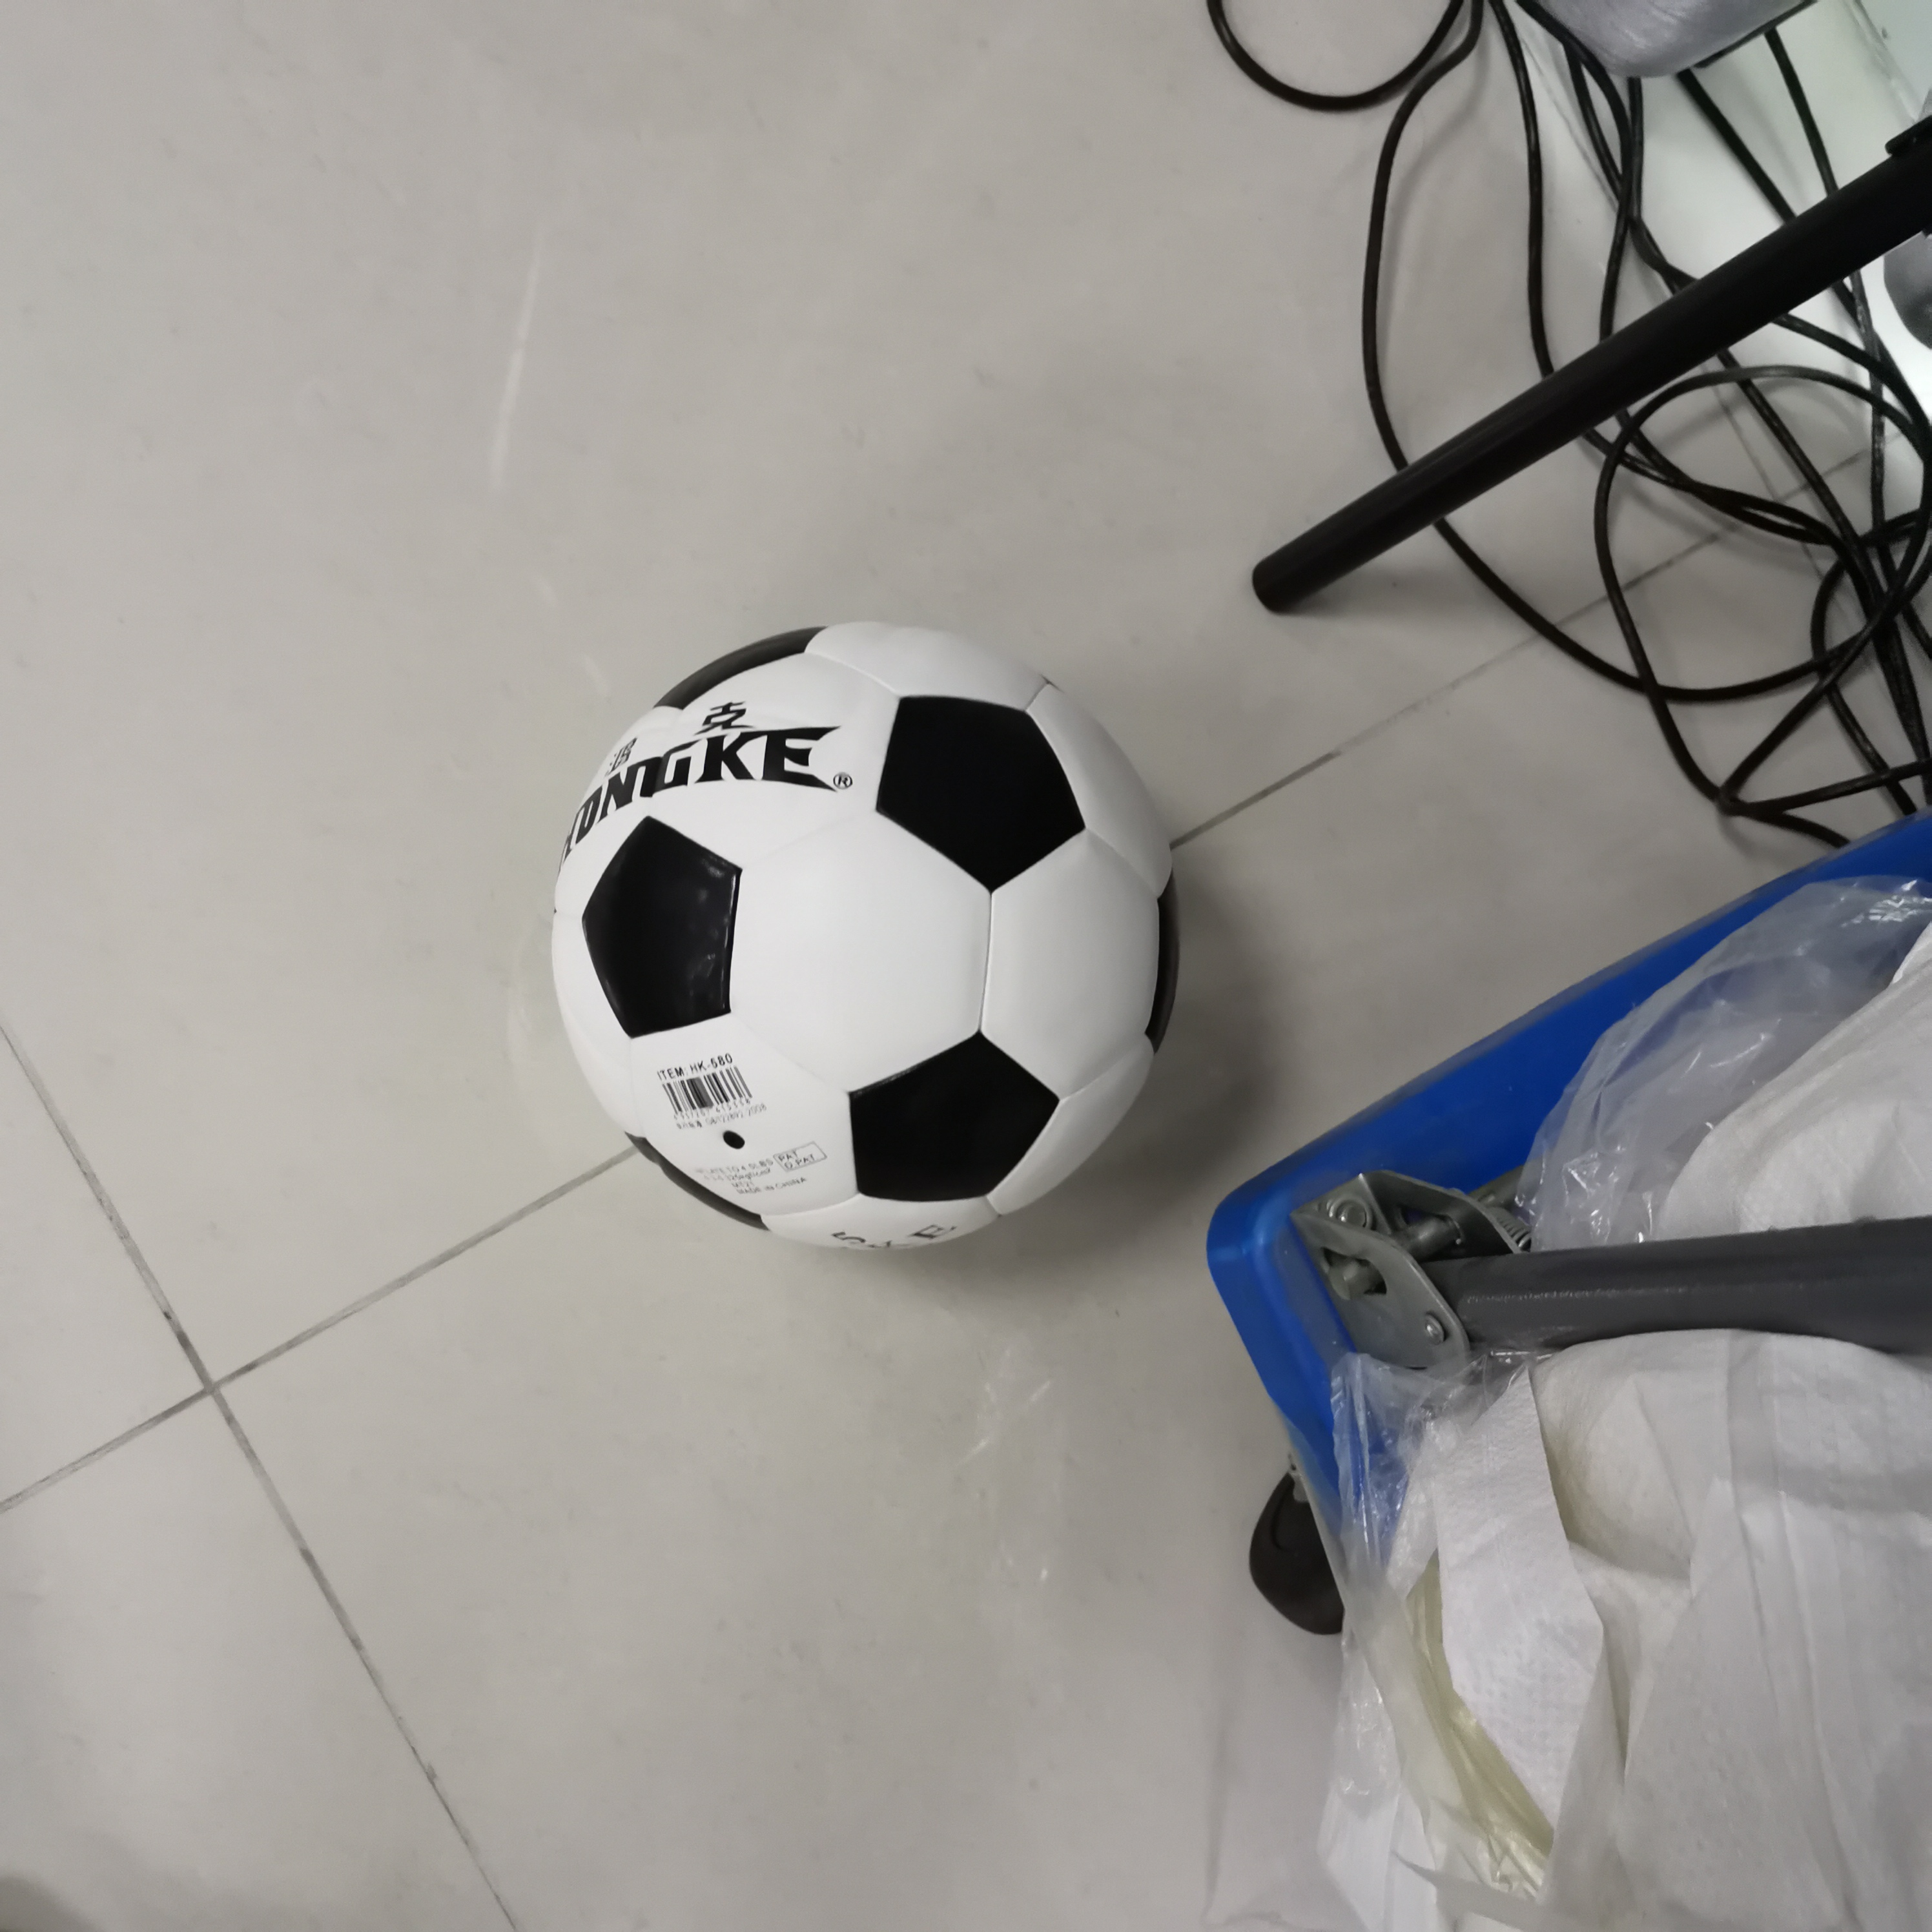football: (552, 616, 1182, 1251)
